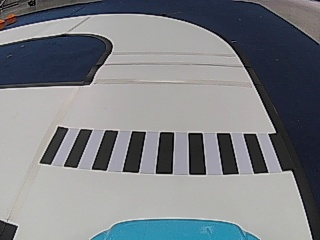CrossWalk: (39, 126, 291, 175)
